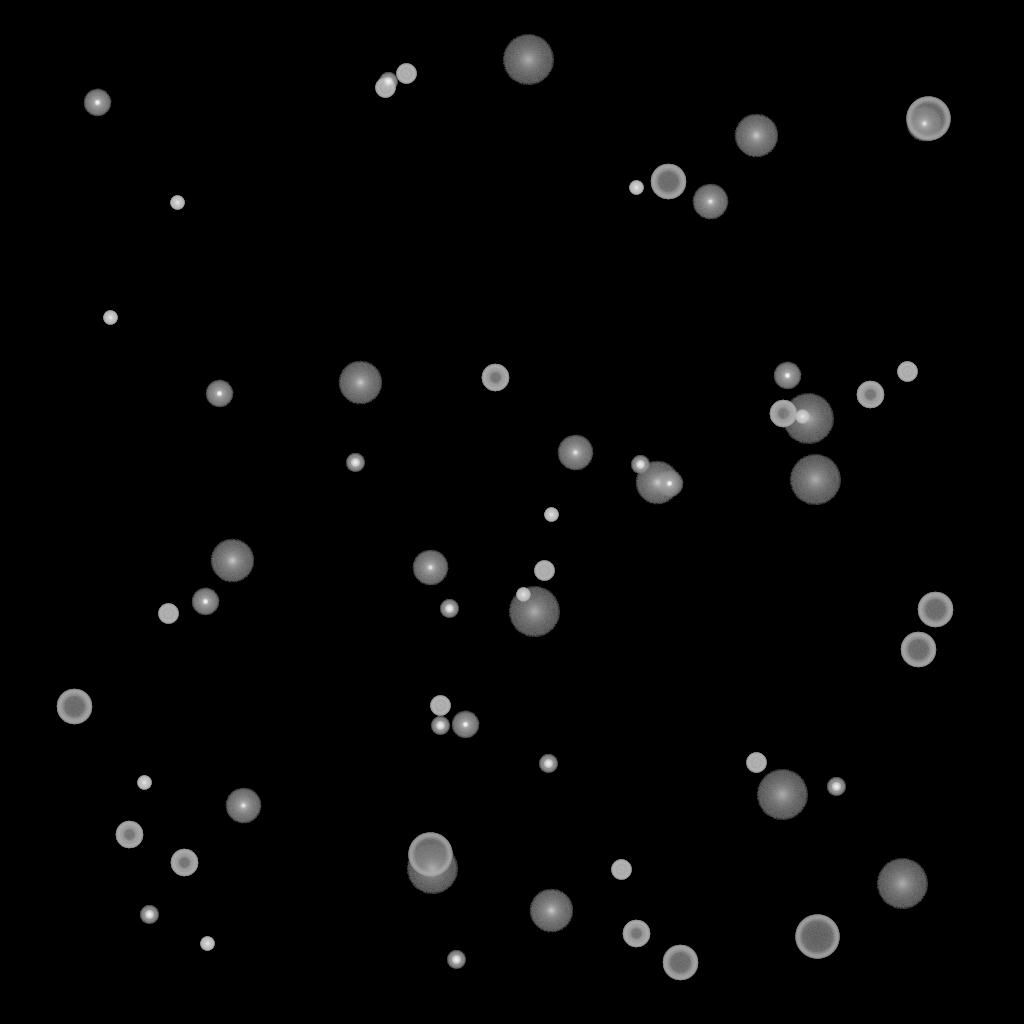depth:-10: (655, 470, 683, 498), (451, 711, 479, 739), (191, 588, 219, 616), (205, 380, 233, 408), (83, 89, 111, 117), (773, 362, 801, 390)
depth:-20: (140, 906, 158, 924), (431, 717, 449, 735), (827, 778, 845, 796), (447, 951, 465, 969), (379, 73, 397, 91), (346, 454, 364, 472), (631, 456, 649, 474), (539, 755, 557, 773), (440, 600, 458, 618)
depth:-30: (795, 410, 809, 424), (516, 588, 530, 602), (137, 776, 151, 790), (544, 508, 558, 522), (629, 181, 643, 195), (103, 311, 117, 325), (170, 196, 184, 210), (200, 937, 214, 951)
depth:-40: (396, 64, 416, 84), (611, 860, 631, 880), (897, 362, 917, 382), (746, 753, 766, 773), (375, 78, 395, 98), (158, 604, 178, 624), (430, 696, 450, 716), (534, 561, 554, 581)
depth:-50: (622, 920, 650, 948), (170, 849, 198, 877), (115, 821, 143, 849), (481, 364, 509, 392), (769, 400, 797, 428), (856, 381, 884, 409)
depth:-60: (900, 632, 936, 668), (917, 592, 953, 628), (650, 164, 686, 200), (662, 945, 698, 981), (56, 689, 92, 725)
depth:-70: (795, 915, 839, 959), (906, 97, 950, 141), (408, 833, 452, 877)
depth:0: (225, 788, 261, 824), (557, 435, 593, 471), (412, 550, 448, 586), (692, 184, 728, 220), (906, 106, 942, 142)
depth:10: (529, 889, 573, 933), (338, 361, 382, 405), (734, 114, 778, 158), (210, 539, 254, 583), (635, 461, 679, 505)
depth:20: (508, 587, 560, 637), (406, 844, 458, 894), (756, 770, 808, 820), (789, 455, 841, 505), (782, 394, 834, 444), (876, 859, 928, 909), (502, 35, 554, 85)
